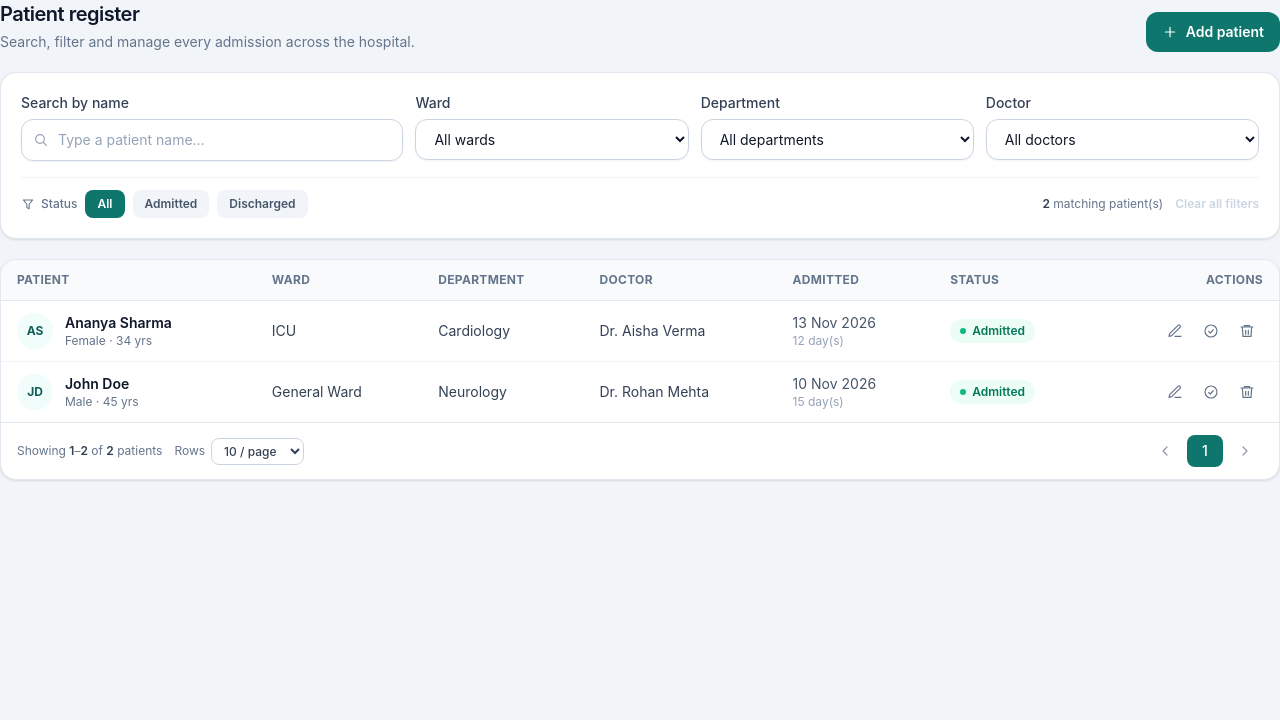
PatientsPage › deletes a patient only after confirmation
This screenshot has width=1280, height=720.
Expected: the text "Ananya Sharma" is shown, [65,313,172,333]
Click the button named "Delete Ananya Sharma" at (1247, 331), box [1231,315,1263,347]
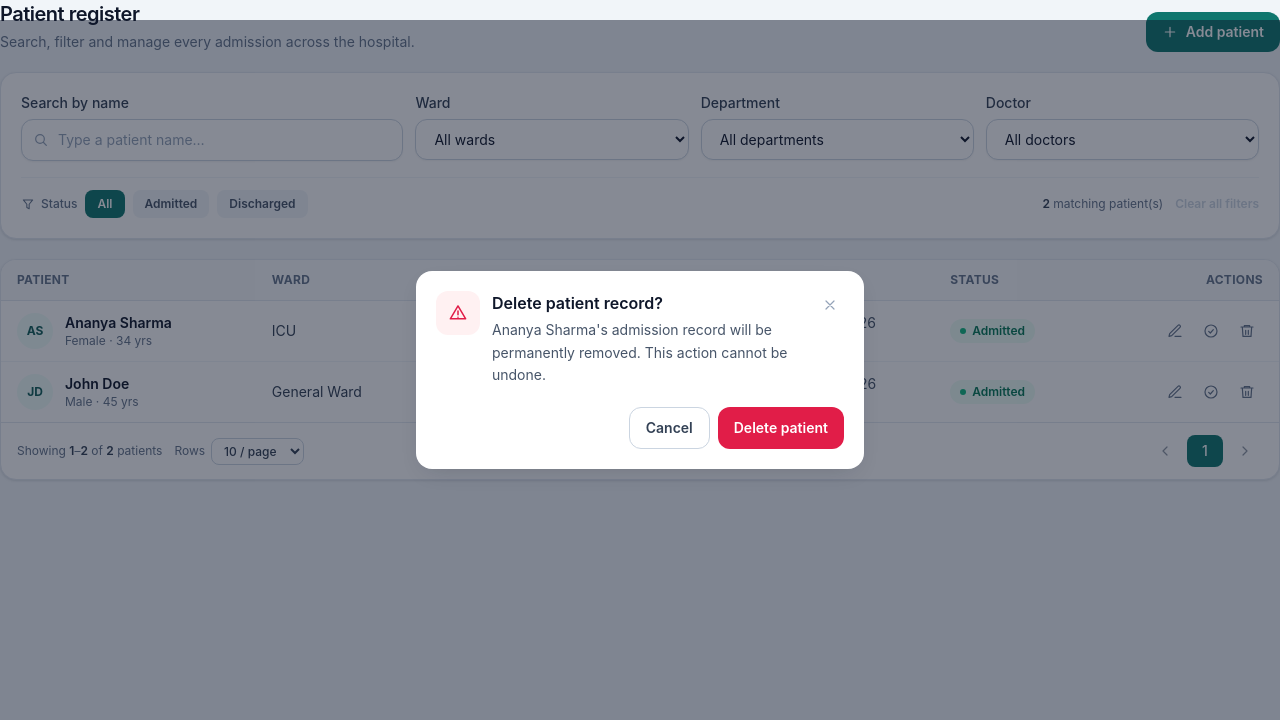
Expected: the dialog is shown, [416,271,864,469]
Expected: the text "will be permanently removed" is shown, [492,321,787,383]
Click the button "Delete patient" at (781, 428), box [718,407,844,449]
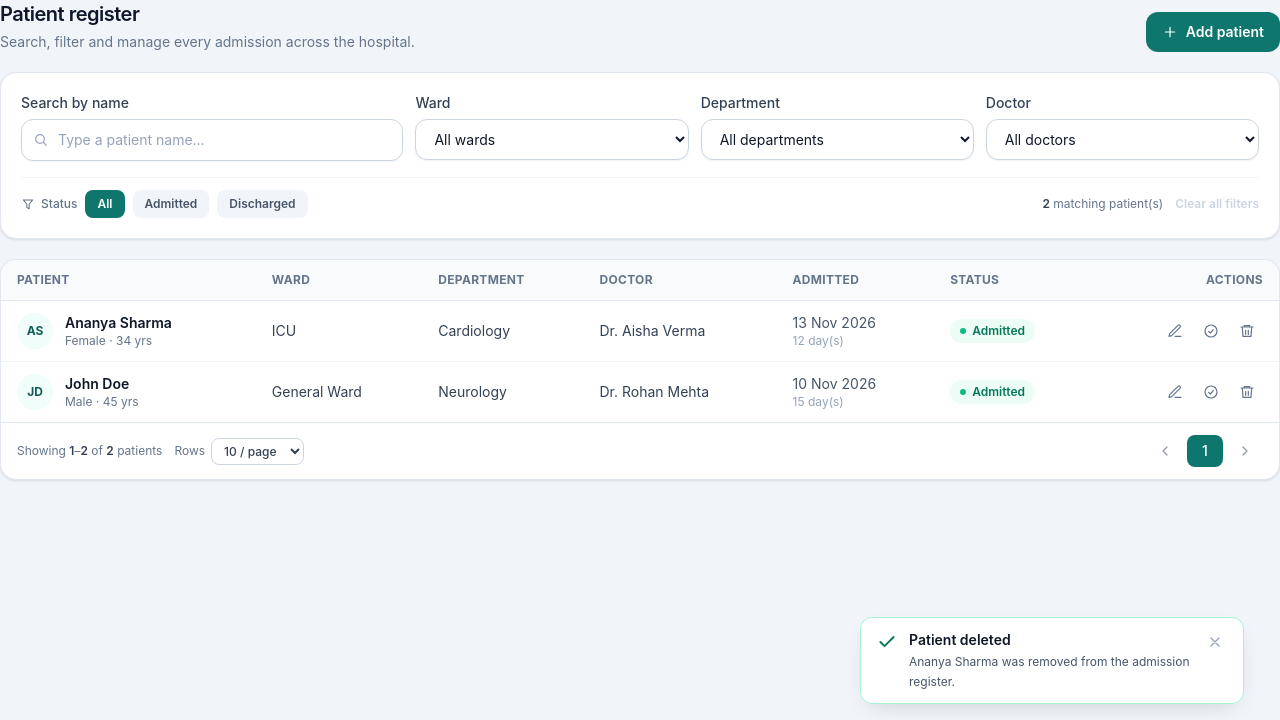
Expected: the text "Patient deleted" is shown, [909,631,1011,648]
